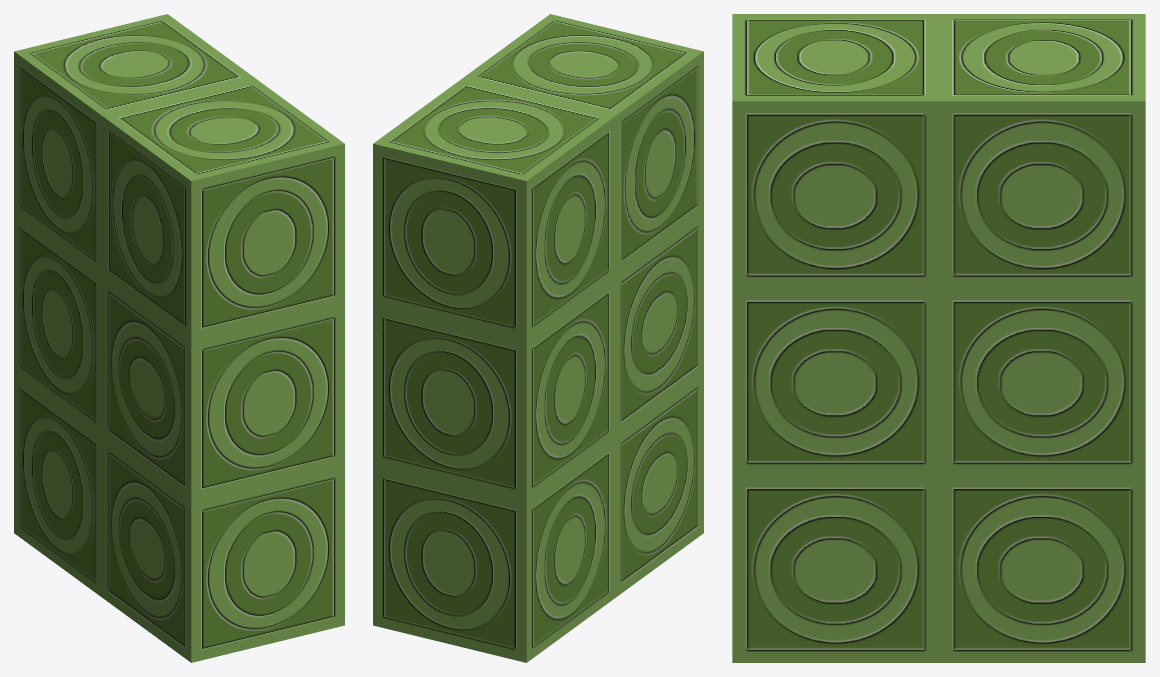
File: DestroyableDoor.fbx
3 views of the same model, side by side, from view 1: azimuth 30°, elevation 25°; view 2: azimuth 150°, elevation 25°; view 3: azimuth 270°, elevation 25° (orthographic). The views are drawn at different scales.
Visible parts, largest first — view 1: Cube; view 2: Cube; view 3: Cube.
Part boxes in pixels (x1,y1,x2,y2): Cube: (14, 14, 344, 662); Cube: (373, 14, 703, 662); Cube: (732, 14, 1145, 662).
Size of the model in its own units: 100 by 300 by 200.
